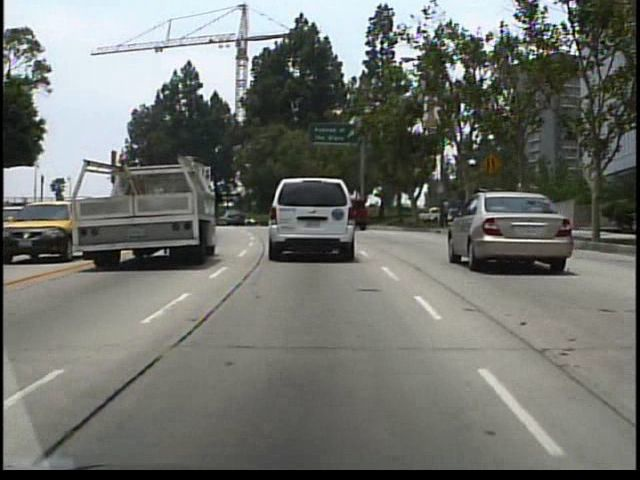person: (441, 194, 454, 229)
